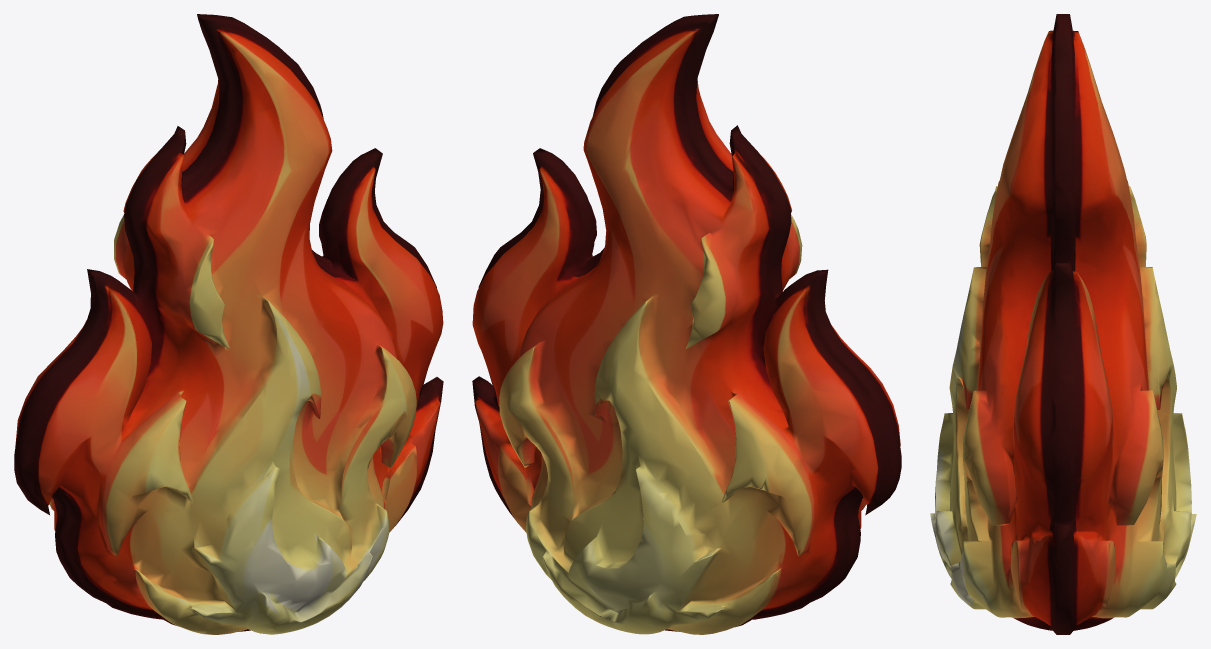
Rendered from fire_icon.fbx.
3 views of the same model, side by side, from view 1: azimuth 30°, elevation 25°; view 2: azimuth 150°, elevation 25°; view 3: azimuth 270°, elevation 25° (orthographic). The views are drawn at different scales.
Visible parts, largest first — view 1: tripo_node_0baea005; view 2: tripo_node_0baea005; view 3: tripo_node_0baea005.
Part boxes in pixels (box(x1,y1,x2,y2)): tripo_node_0baea005: box(14, 14, 443, 634); tripo_node_0baea005: box(472, 14, 901, 634); tripo_node_0baea005: box(930, 14, 1196, 634).
Size of the model in its own units: 74.27 by 42.6 by 100.
Materials: 1 (1 with a texture image).
